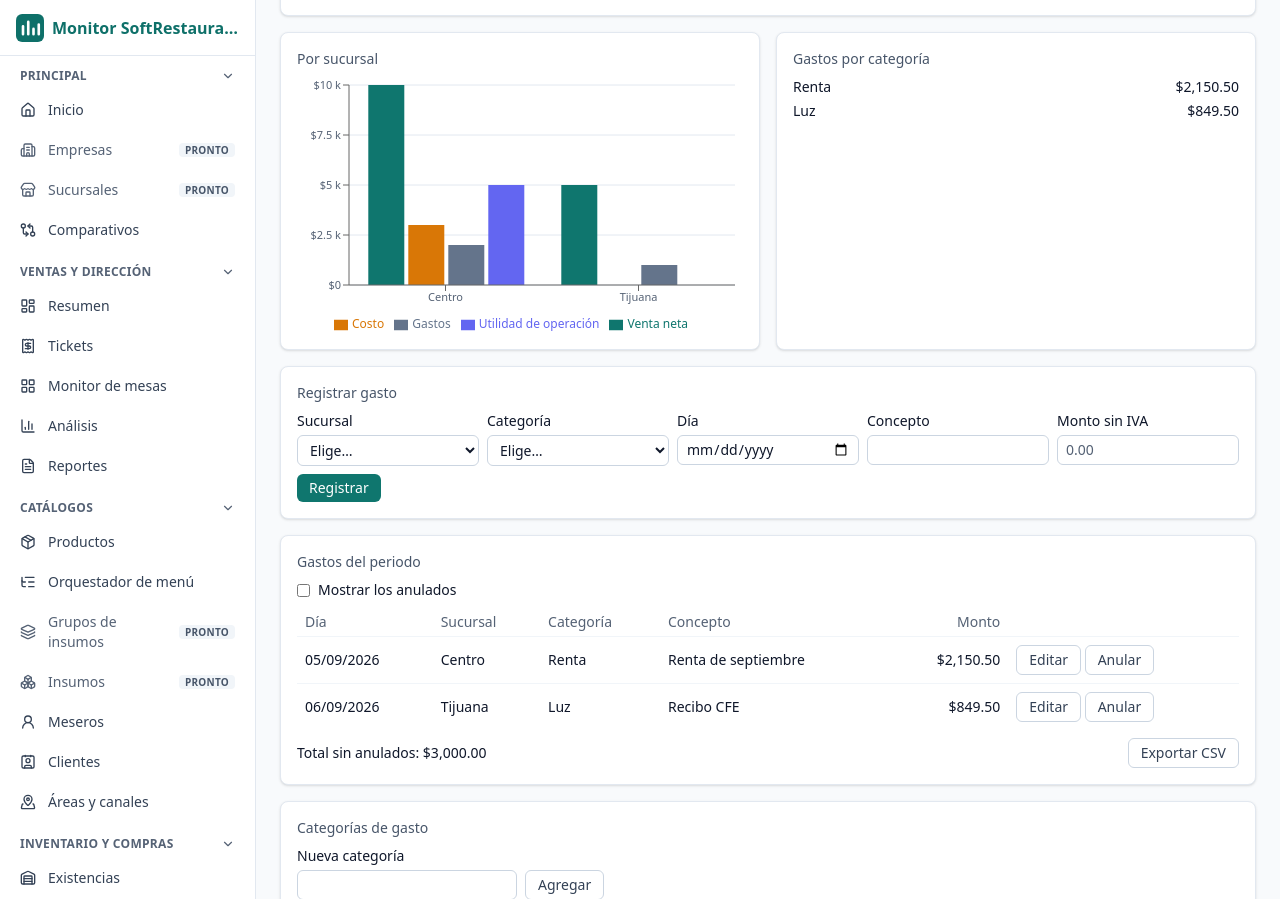
Scenario: captura de gastos › un rechazo del API se dice en el formulario
(page scrolled)
Select "Tijuana" in the dropdown labelled "Sucursal" at point(388, 450), box [297,435,479,466]
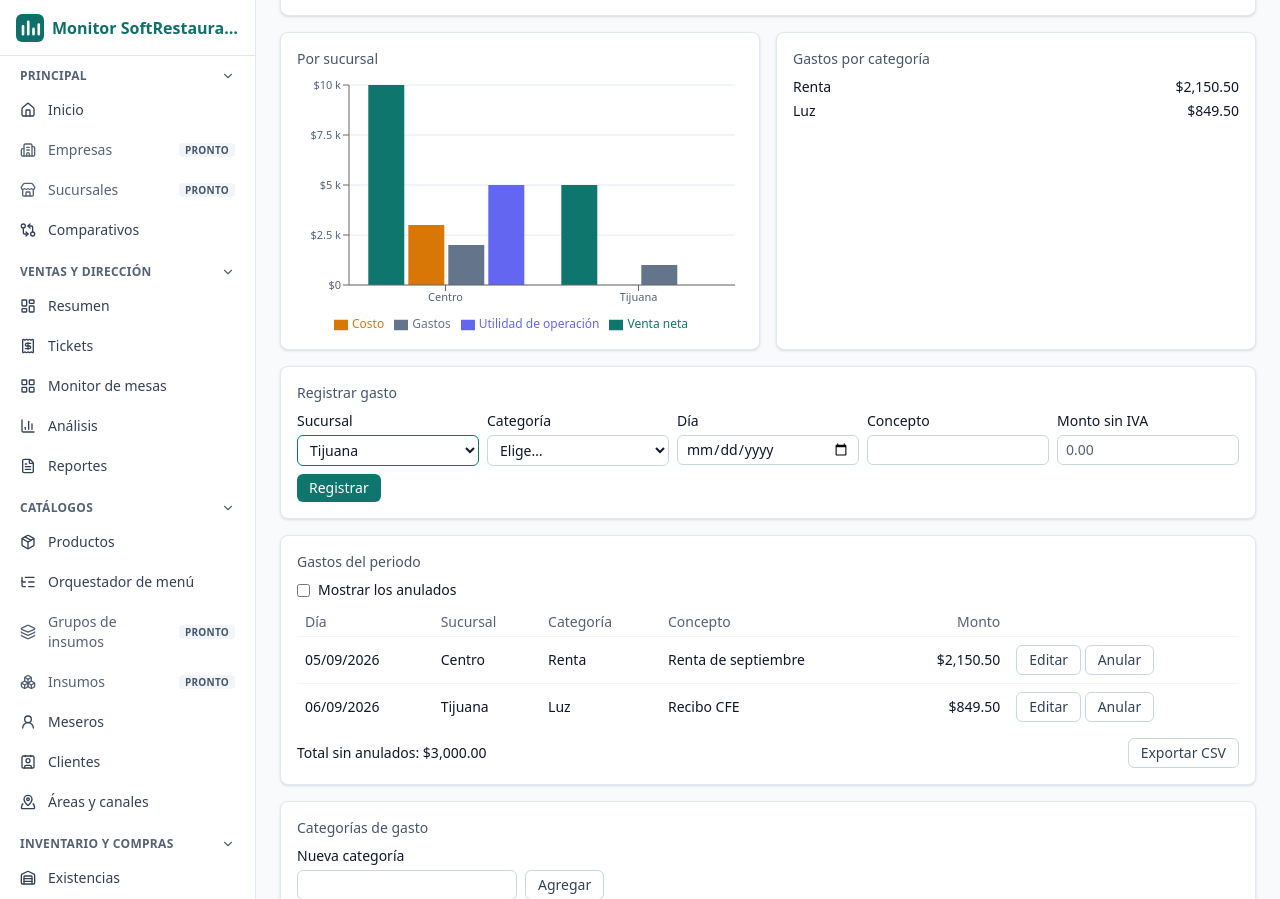
Select "Renta" in the dropdown labelled "Categoría" at point(578, 450), box [487,435,669,466]
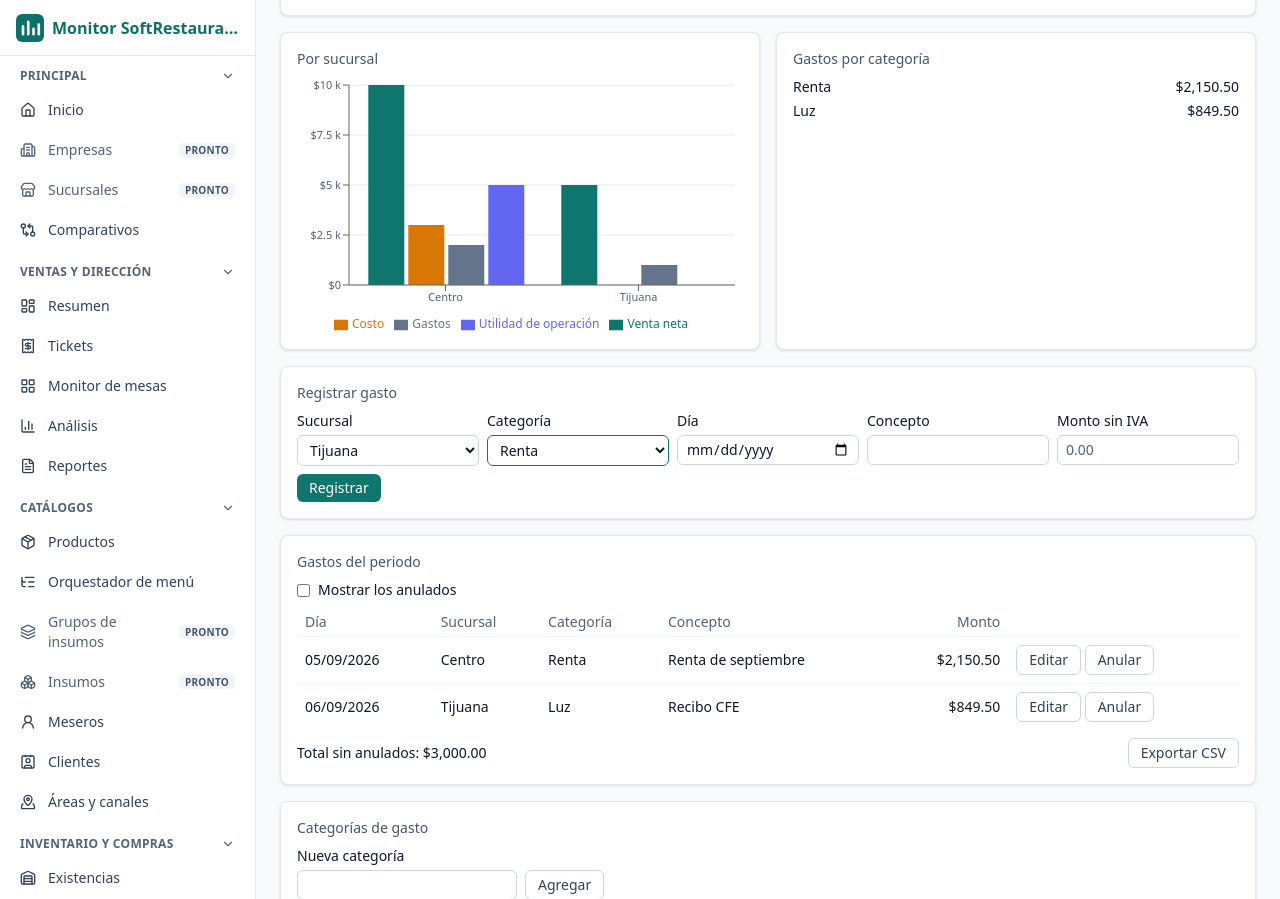
Type "2026-09-21" into the date field labelled "Día" at point(768, 450), box [677,435,859,465]
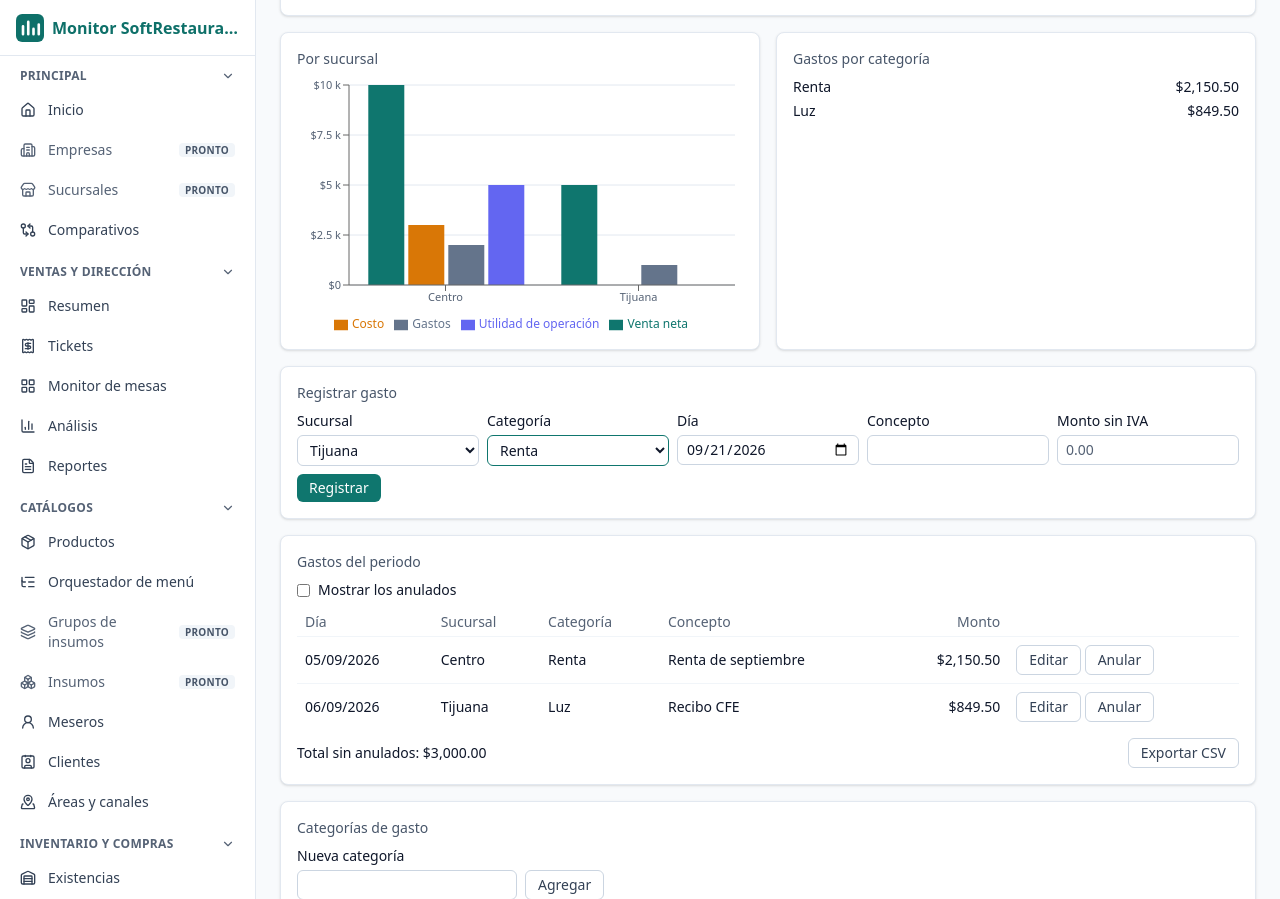
Type "Renta" into the field labelled "Concepto" at point(958, 450), box [867,435,1049,465]
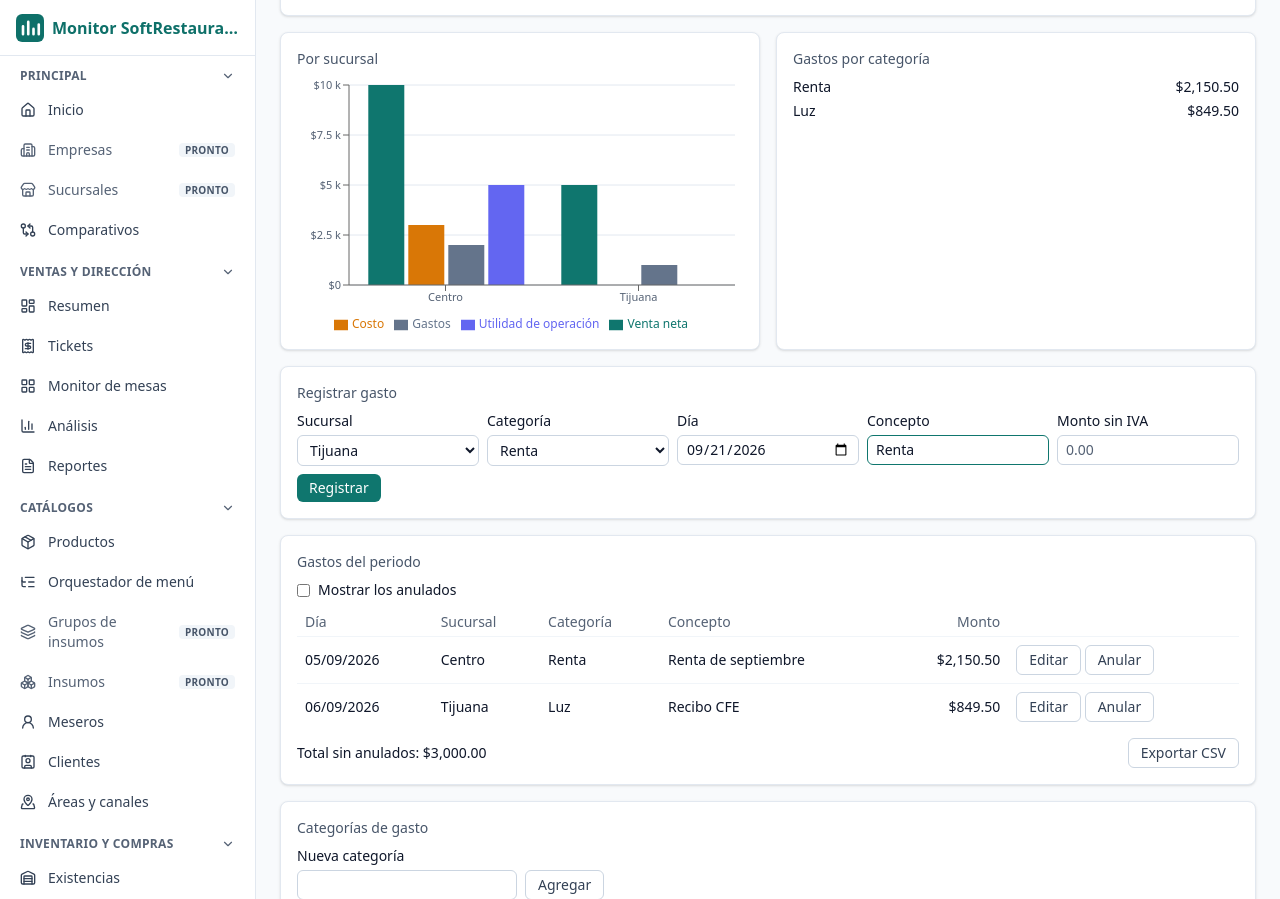
Type "100" into the field labelled "Monto sin IVA" at point(1148, 450), box [1057,435,1239,465]
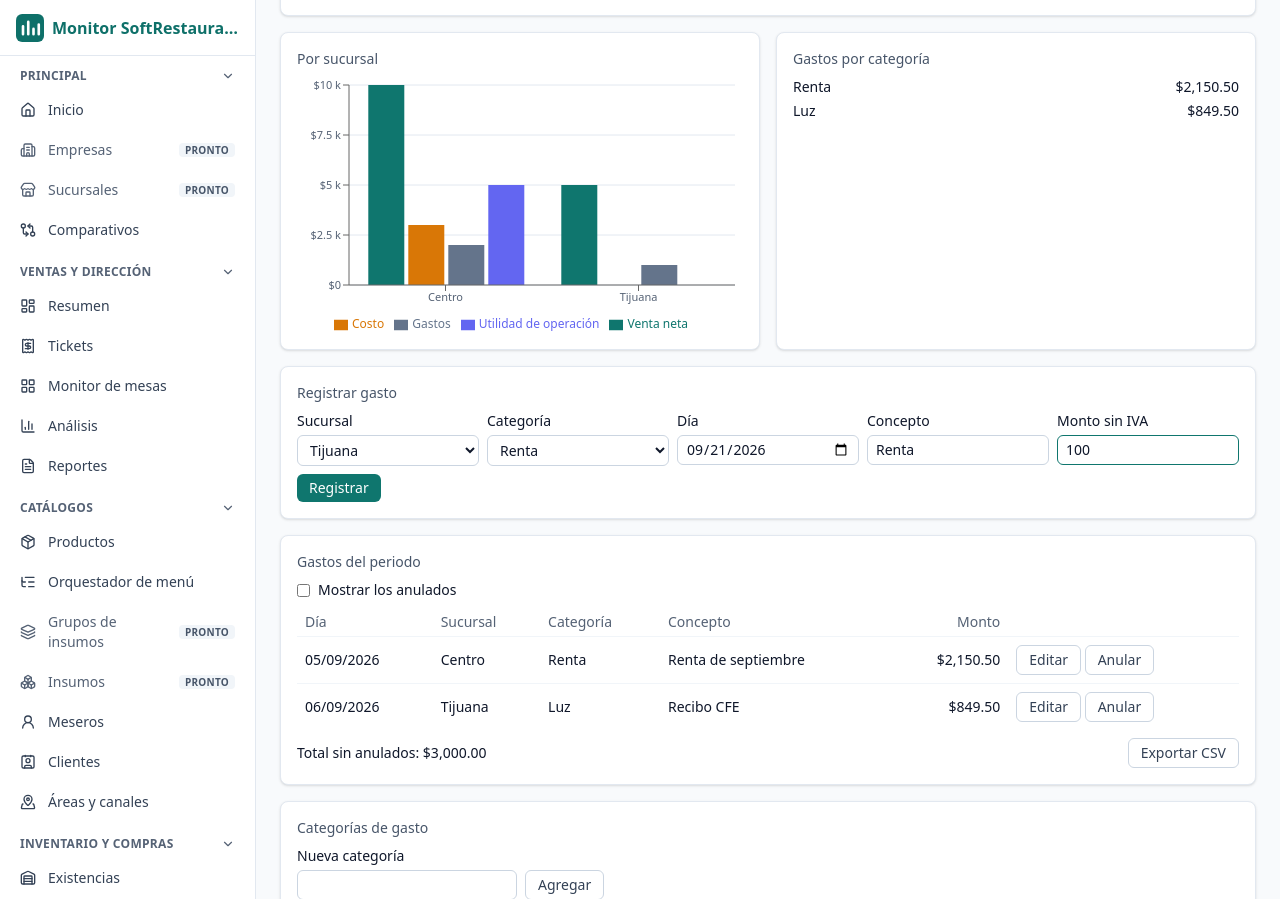
Click the button "Registrar" at point(339, 488), box [297,474,381,502]
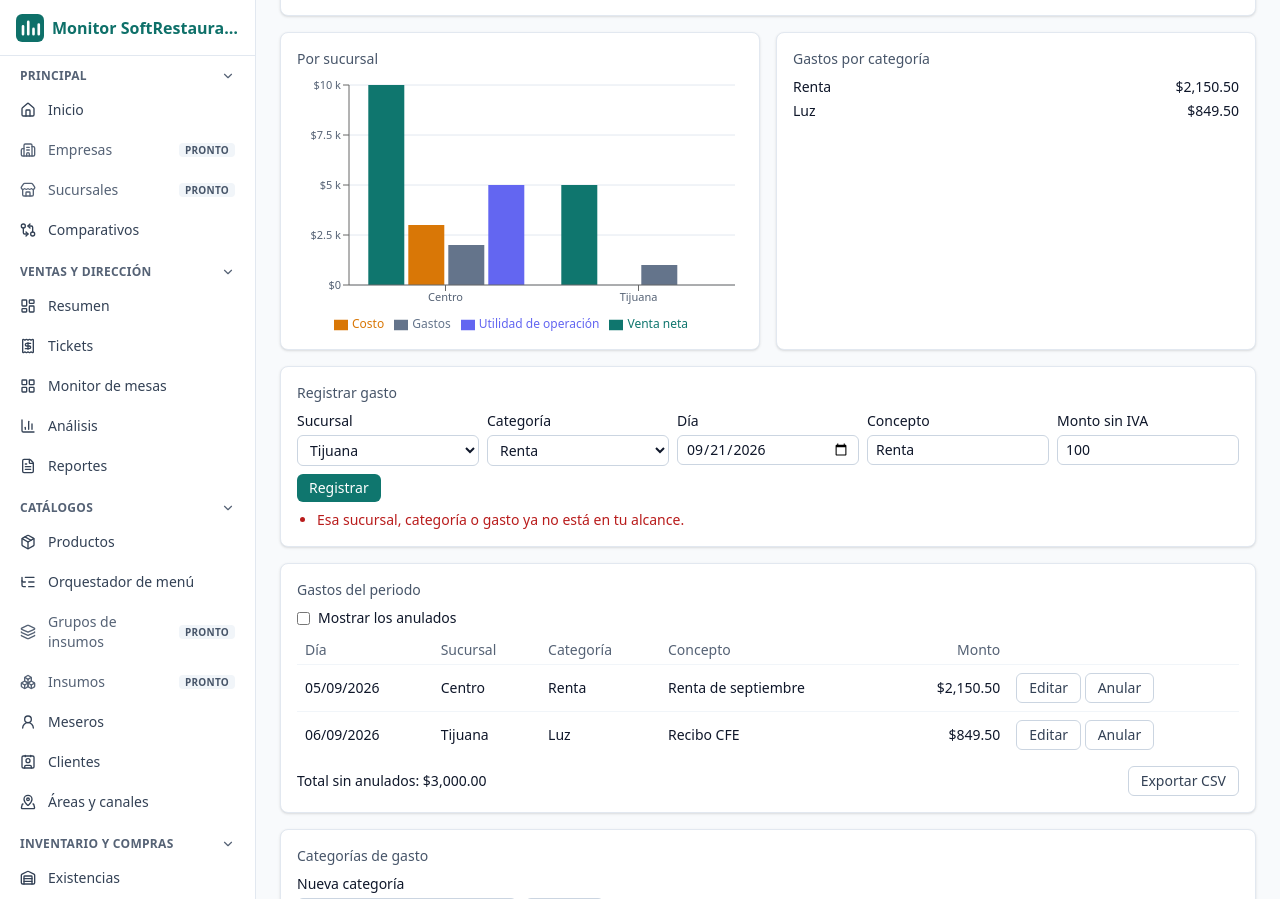
Expected: the message reads "Esa sucursal, categoría o gasto ya no está en tu alcance.", [317,510,684,529]
